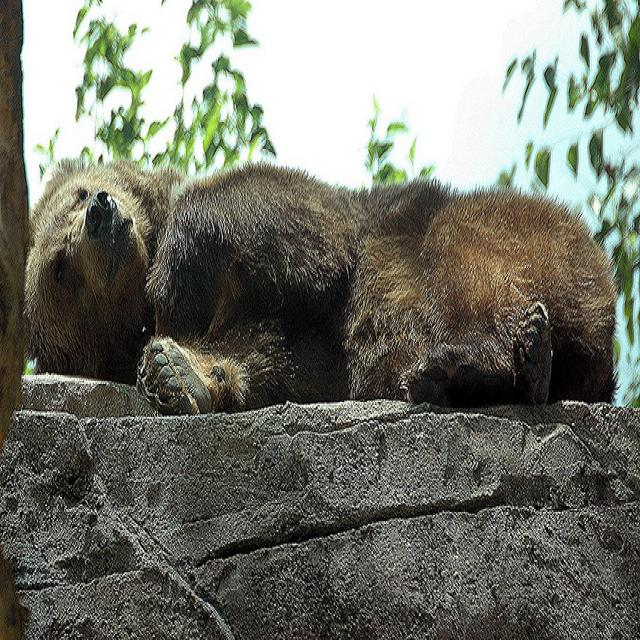Bear: (15, 150, 618, 407)
